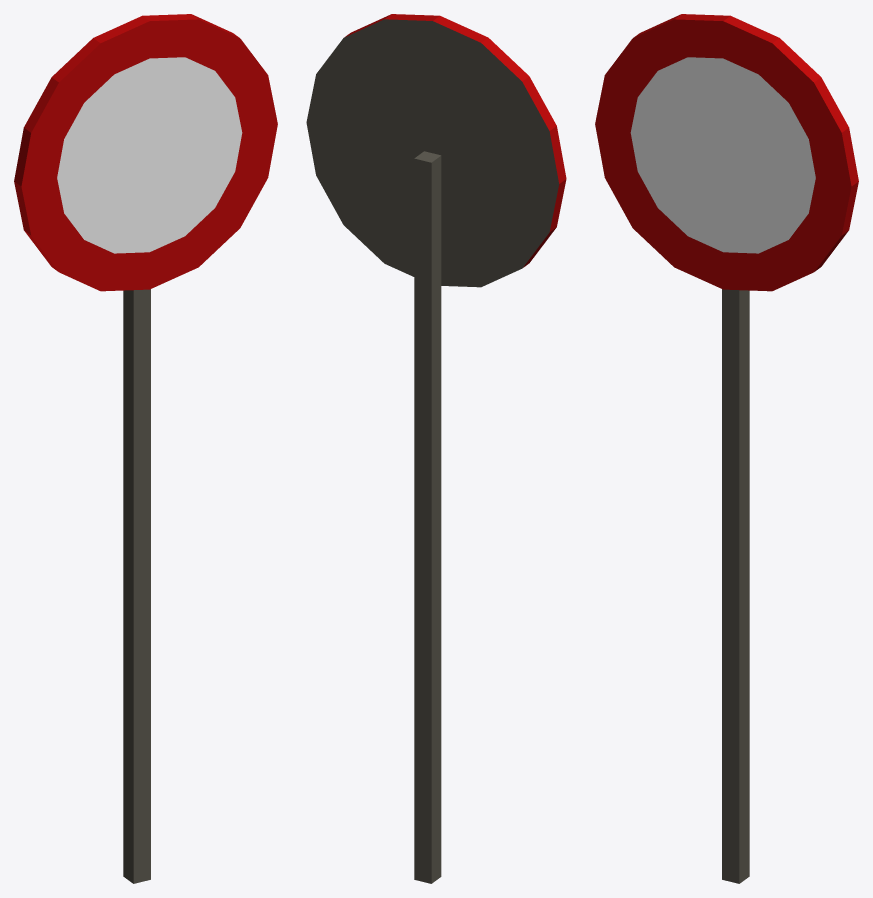
Rendered from CitySignGiveProhibition.fbx.
The picture shows the model from 3 angles, left to right: view 1: azimuth 30°, elevation 25°; view 2: azimuth 150°, elevation 25°; view 3: azimuth 330°, elevation 25°; orthographic projection.
Visible parts, largest first — view 1: CitySignGiveProhibition; view 2: CitySignGiveProhibition; view 3: CitySignGiveProhibition.
Part boxes in pixels (x1,y1,x2,y2): CitySignGiveProhibition: (14, 14, 277, 883); CitySignGiveProhibition: (306, 14, 566, 883); CitySignGiveProhibition: (595, 14, 858, 883).
Bounding box in the file's own units: 0.1322 × 0.4266 × 0.0156.
